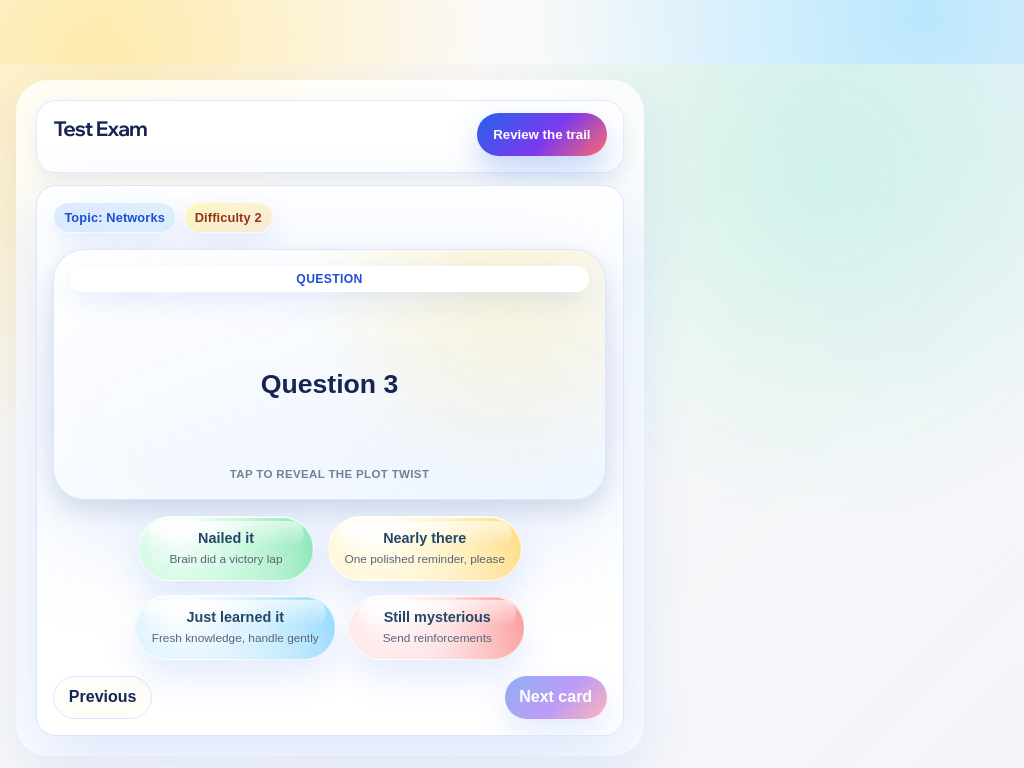
Test: ExamWorkspace › hydrates previous navigation from persisted presented history
The width and height of the screenshot is (1024, 768).
expect the text "Question 3" is shown: met, box x1=261 y1=364 x2=399 y2=405
What coordinates should you click on to do the following:
click the button "Previous"
I would click on:
 (103, 697)
Its box is x1=54 y1=676 x2=152 y2=718.
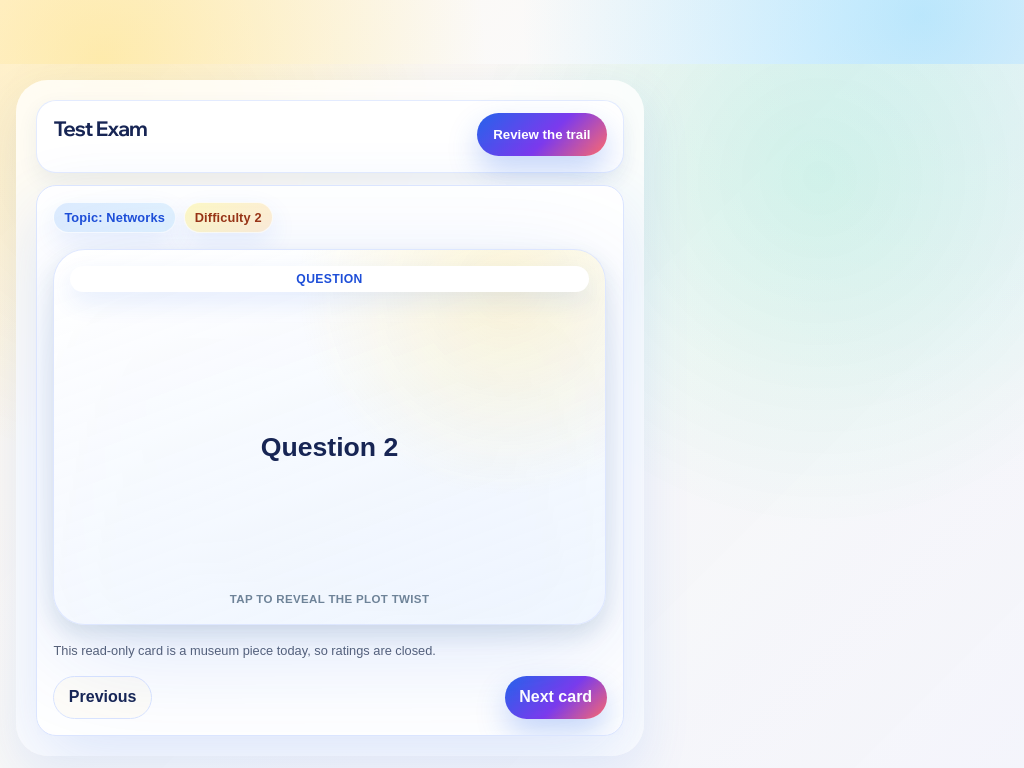
expect the text "Question 2" is shown: met, box x1=261 y1=426 x2=399 y2=468
